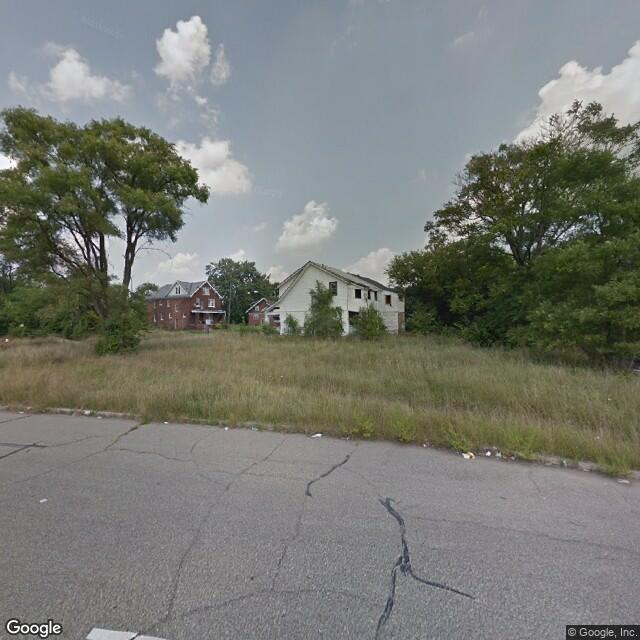litter: (460, 447, 479, 463), (618, 477, 630, 486), (82, 409, 93, 417), (415, 442, 428, 448), (246, 427, 260, 432), (493, 453, 505, 458), (309, 432, 323, 436), (14, 412, 28, 416), (484, 450, 493, 456), (221, 424, 228, 430), (160, 419, 166, 423)
